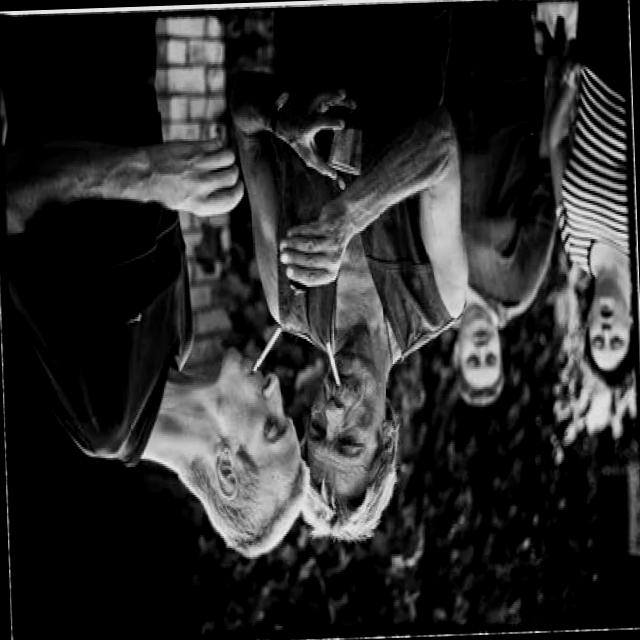cigarette: (248, 324, 286, 374), (322, 339, 344, 392)
